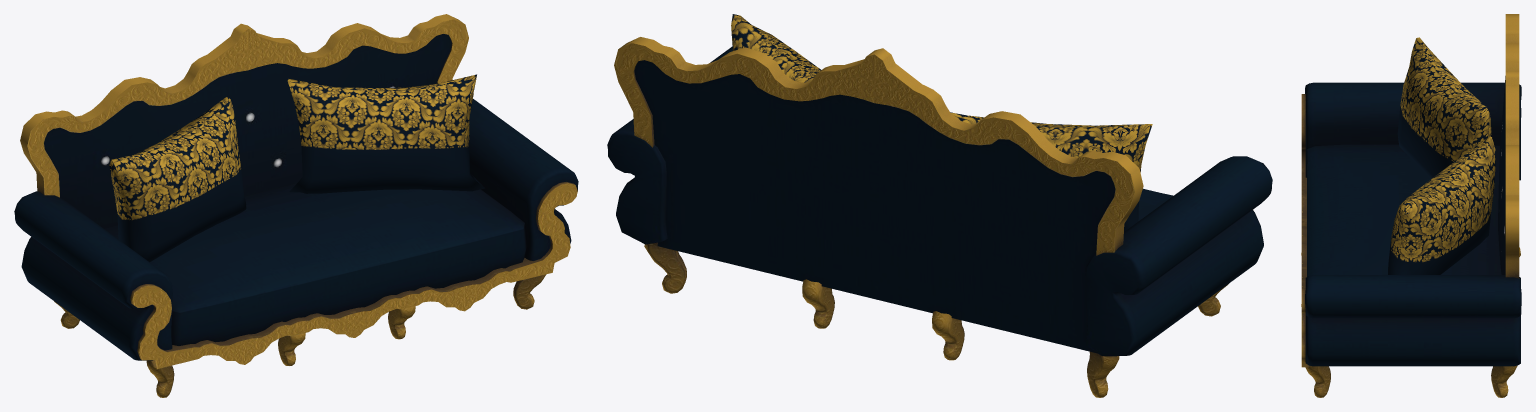
Rendered from Coach.fbx.
3 renders of one model, left to right at view 1: azimuth 30°, elevation 25°; view 2: azimuth 150°, elevation 25°; view 3: azimuth 270°, elevation 25°, orthographic. The views are drawn at different scales.
Parts seen in each view (by area): view 1: Coach; view 2: Coach; view 3: Coach.
Boxes of the visible parts, x1,y1,x2,y2 form: Coach: (14, 14, 578, 397); Coach: (607, 14, 1272, 397); Coach: (1301, 14, 1521, 397).
Size of the model in its own units: 22.99 by 12.23 by 10.11.
Materials: 2 (2 with a texture image).
